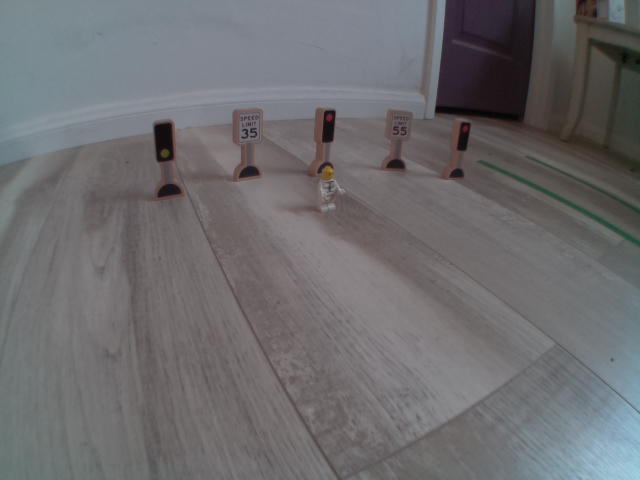Green Traffic Light: (150, 116, 183, 168)
Red Traffic Light: (449, 119, 476, 153), (318, 107, 338, 148)
Speed Limit 35: (232, 104, 267, 149)
Speed Limit 55: (382, 104, 419, 148)
person: (307, 161, 352, 217)
